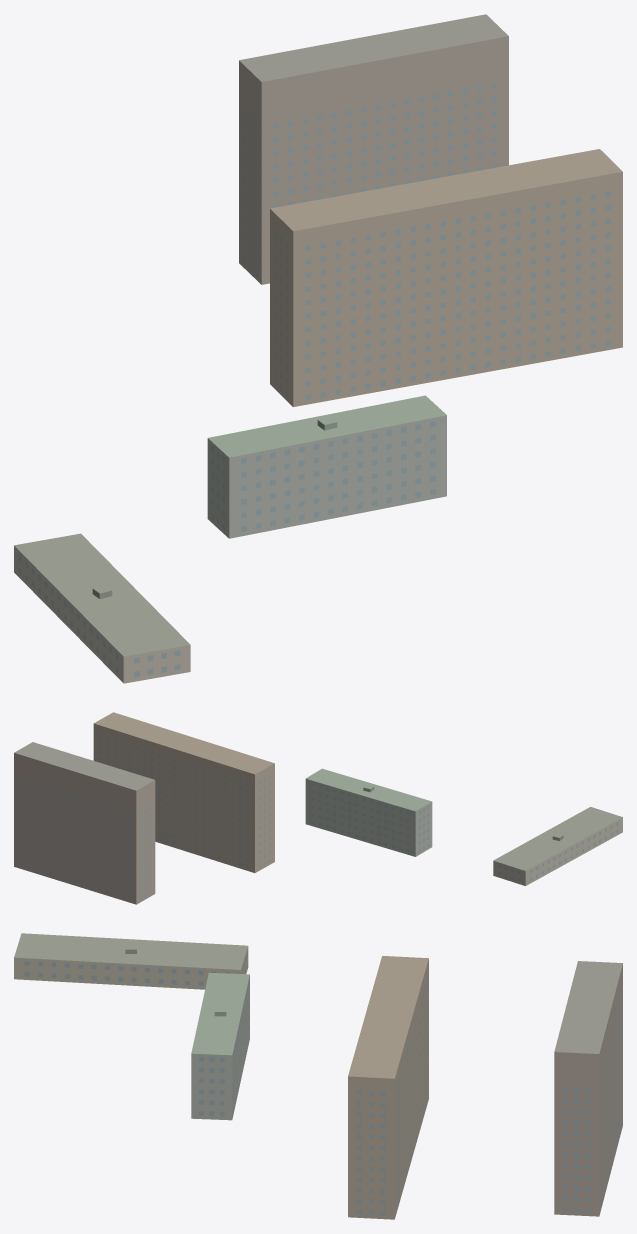
3 views of the same model, one above another, from view 1: azimuth 30°, elevation 25°; view 2: azimuth 150°, elevation 25°; view 3: azimuth 270°, elevation 25° (orthographic). The views are drawn at different scales.
Parts seen in each view (by area): view 1: context-4, context-1, context-3, context-0; view 2: context-1, context-4, context-3, context-0; view 3: context-4, context-1, context-0, context-3.
Boxes of the visible parts, <box> form: context-4: <box>270,149,622,406</box>; context-1: <box>239,14,508,284</box>; context-3: <box>207,395,446,538</box>; context-0: <box>14,533,190,683</box>; context-1: <box>14,742,155,904</box>; context-4: <box>93,712,274,872</box>; context-3: <box>305,768,432,856</box>; context-0: <box>493,806,622,885</box>; context-4: <box>348,956,428,1219</box>; context-1: <box>554,961,622,1216</box>; context-0: <box>14,933,248,989</box>; context-3: <box>191,972,249,1120</box>.
Size of the model in its own units: 173 by 52.52 by 158.
